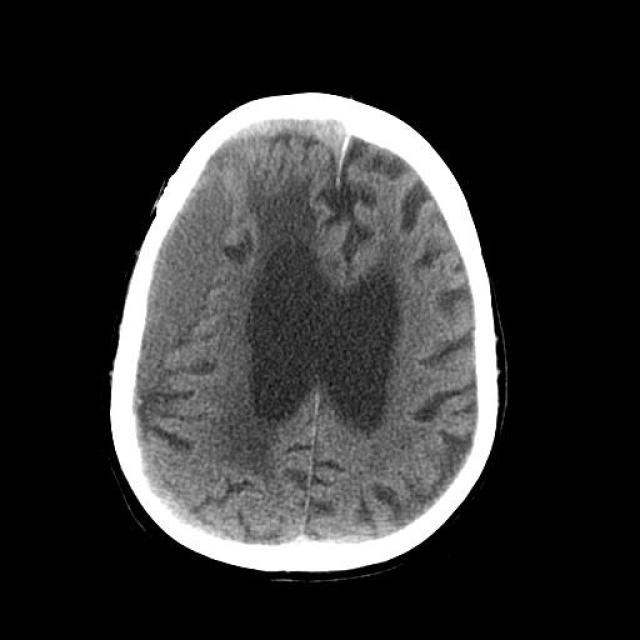Subdural: (224, 110, 362, 198)
